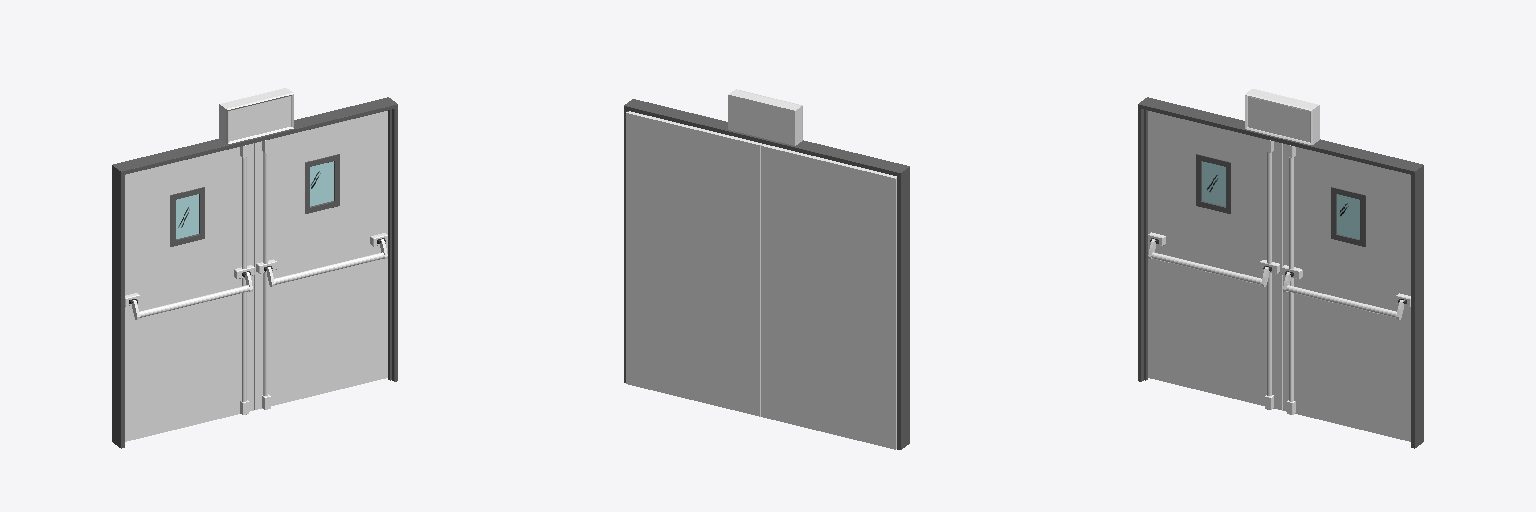
The picture shows the model from 3 angles: view 1: azimuth 30°, elevation 25°; view 2: azimuth 150°, elevation 25°; view 3: azimuth 330°, elevation 25°; orthographic projection.
Visible parts, largest first — view 1: Cylinder008_initialShadingGroup, Cylinder008_initialShadingGroup_4, Cylinder008_FrameSG, Cylinder008_initialShadingGroup_7, Cylinder008_window2SG, Cylinder008_window1SG, Cylinder008_GlassFrameSG, Cylinder008_GlassFrame_ncl1_1SG; view 2: Cylinder008_initialShadingGroup, Cylinder008_initialShadingGroup_4, Cylinder008_FrameSG, Cylinder008_initialShadingGroup_7; view 3: Cylinder008_initialShadingGroup, Cylinder008_initialShadingGroup_4, Cylinder008_FrameSG, Cylinder008_initialShadingGroup_7, Cylinder008_window1SG, Cylinder008_window2SG, Cylinder008_GlassFrame_ncl1_1SG, Cylinder008_GlassFrameSG.
Boxes of the visible parts, box(x1,y1,x2,y2) form: Cylinder008_initialShadingGroup: box(125, 143, 387, 441); Cylinder008_initialShadingGroup_4: box(254, 111, 387, 409); Cylinder008_FrameSG: box(112, 97, 397, 448); Cylinder008_initialShadingGroup_7: box(219, 88, 293, 144); Cylinder008_window2SG: box(310, 161, 333, 206); Cylinder008_window1SG: box(176, 194, 198, 238); Cylinder008_GlassFrameSG: box(170, 187, 204, 246); Cylinder008_GlassFrame_ncl1_1SG: box(305, 154, 339, 213); Cylinder008_initialShadingGroup: box(761, 144, 896, 449); Cylinder008_initialShadingGroup_4: box(626, 111, 762, 416); Cylinder008_FrameSG: box(624, 99, 909, 449); Cylinder008_initialShadingGroup_7: box(728, 89, 802, 145); Cylinder008_initialShadingGroup: box(1148, 111, 1404, 410); Cylinder008_initialShadingGroup_4: box(1283, 144, 1410, 441); Cylinder008_FrameSG: box(1138, 97, 1423, 448); Cylinder008_initialShadingGroup_7: box(1245, 89, 1319, 144); Cylinder008_window1SG: box(1202, 161, 1225, 206); Cylinder008_window2SG: box(1337, 194, 1359, 238); Cylinder008_GlassFrame_ncl1_1SG: box(1331, 187, 1365, 246); Cylinder008_GlassFrameSG: box(1196, 154, 1230, 213).
Bounding box in the file's own units: 21.99 × 23.69 × 1.79.
Materials: 10 (9 with a texture image).